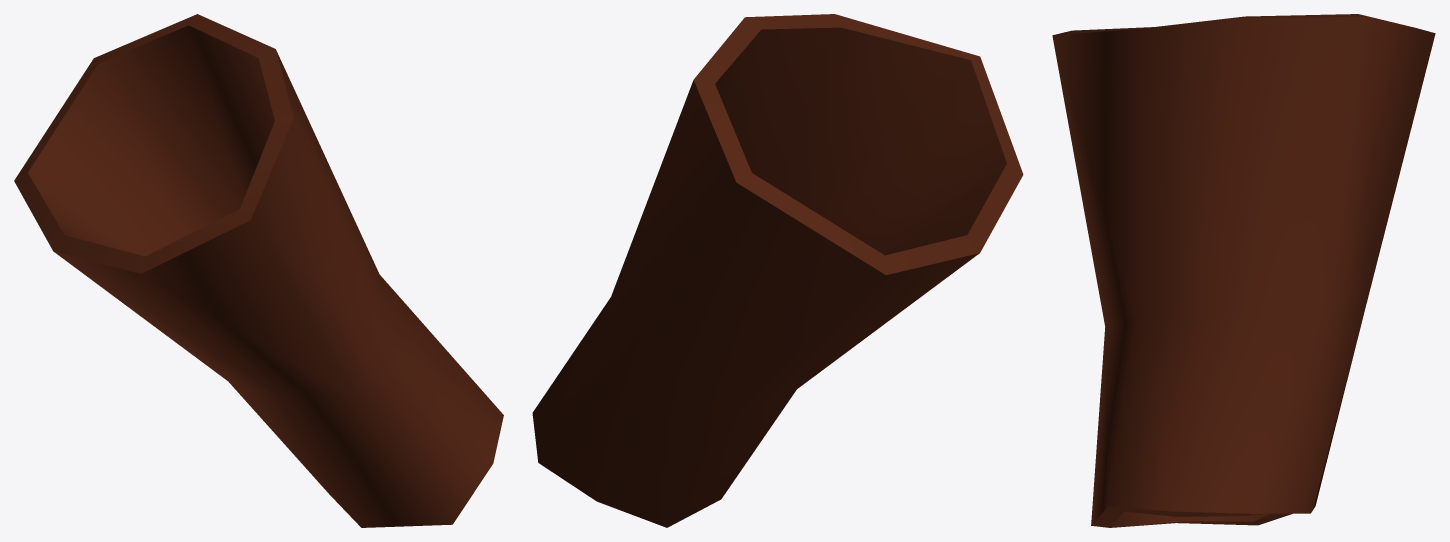
The model's file is Arm_3_L.fbx.
3 views of the same model, side by side, from view 1: azimuth 30°, elevation 25°; view 2: azimuth 150°, elevation 25°; view 3: azimuth 270°, elevation 25° (orthographic). The views are drawn at different scales.
Visible parts, largest first — view 1: Arm_3_L; view 2: Arm_3_L; view 3: Arm_3_L.
Part boxes in pixels (box(x1,y1,x2,y2)): Arm_3_L: box(14, 14, 503, 527); Arm_3_L: box(532, 14, 1023, 527); Arm_3_L: box(1052, 14, 1435, 527).
Size of the model in its own units: 17.42 by 18.99 by 13.79.
